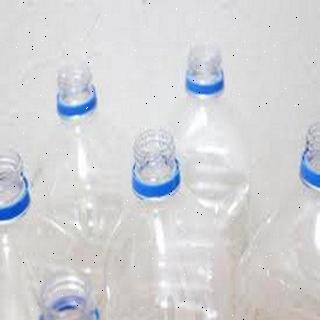Plastic-bottle: (104, 126, 232, 320), (38, 59, 138, 279), (170, 36, 265, 259), (233, 122, 320, 320), (1, 143, 93, 320)
